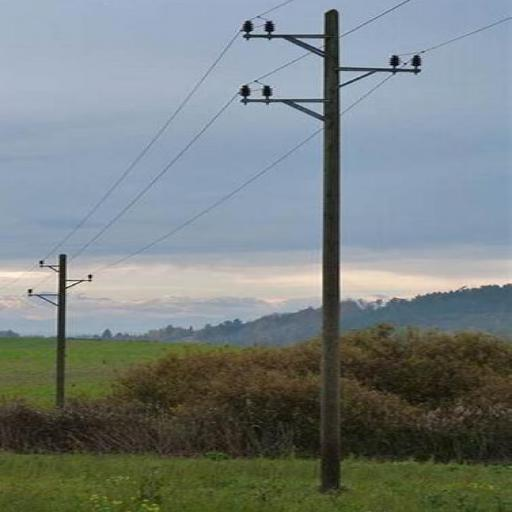mono_10: (235, 6, 425, 494), (27, 252, 97, 418)
